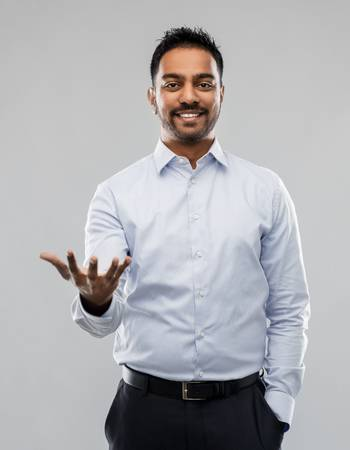F_shirt: (71, 136, 310, 427)
